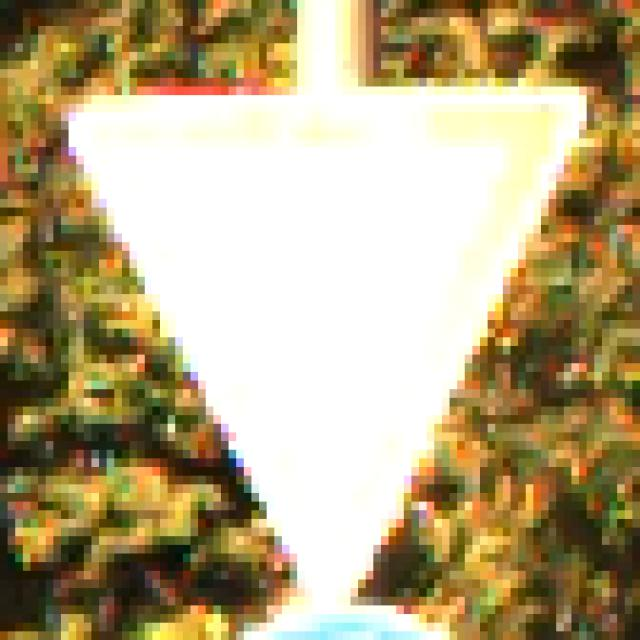Give Way: (62, 62, 588, 589)
